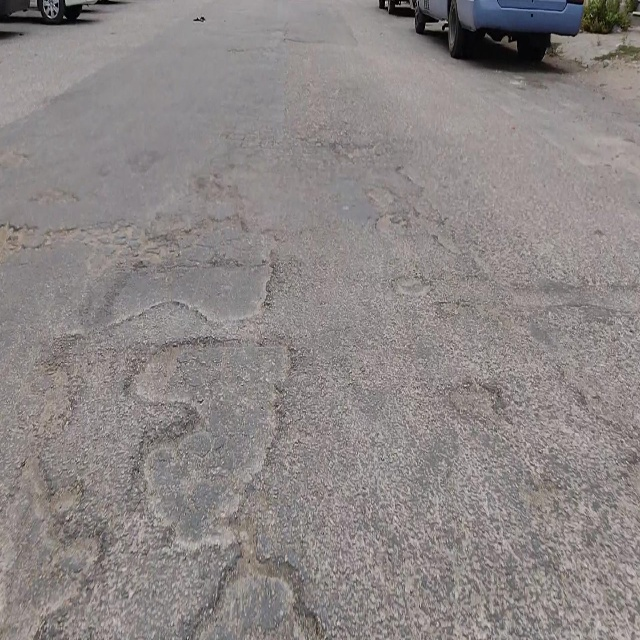pothole: (123, 334, 296, 550), (0, 453, 107, 640), (75, 255, 275, 343), (186, 535, 325, 634)
